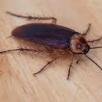cockroach: (11, 21, 90, 56)
